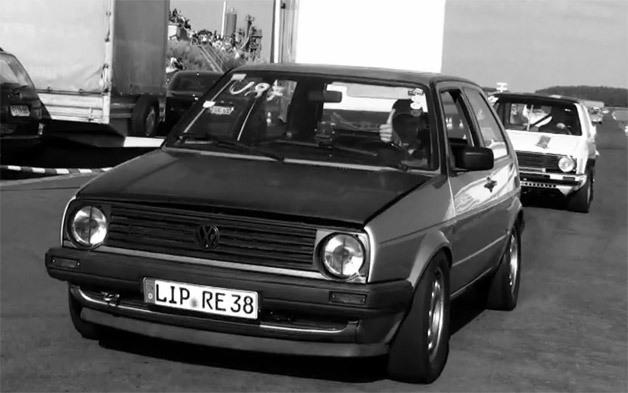car: (46, 64, 527, 386)
